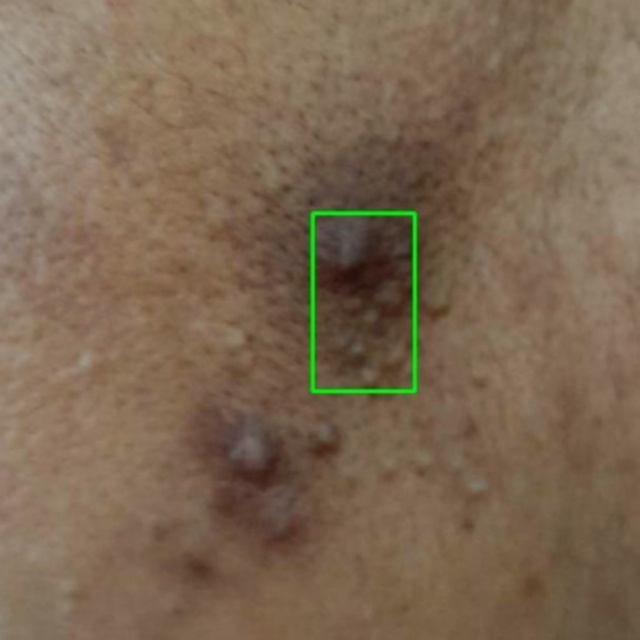Tinea Corporis: (312, 213, 414, 391)
